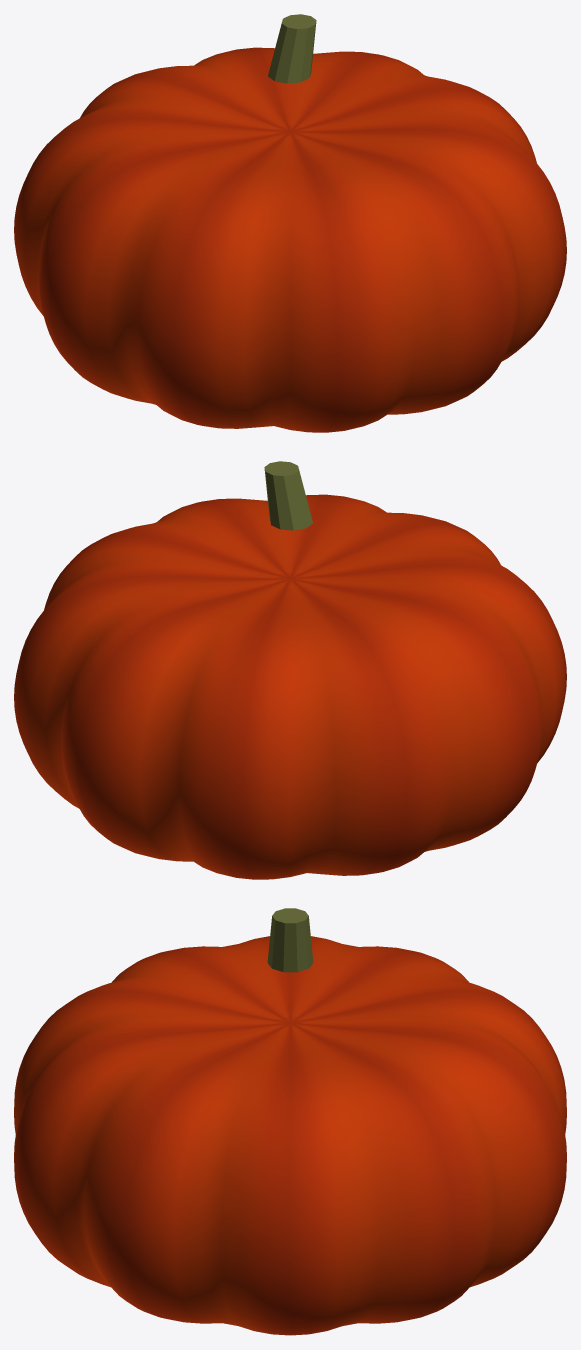
Rendered from citrouille.glb.
The picture shows the model from 3 angles, top to bottom: view 1: azimuth 30°, elevation 25°; view 2: azimuth 150°, elevation 25°; view 3: azimuth 270°, elevation 25°; orthographic projection. The views are drawn at different scales.
Visible parts, largest first — view 1: entier_peau, moitie_B_peau, moitie_A_peau, entier_extra0; view 2: entier_peau, moitie_A_peau, moitie_B_peau, entier_extra0; view 3: entier_peau, moitie_B_peau, moitie_A_peau, entier_extra0.
Boxes of the visible parts, <box> form: entier_peau: <box>14,47,566,432</box>; moitie_B_peau: <box>50,89,566,432</box>; moitie_A_peau: <box>14,83,485,365</box>; entier_extra0: <box>268,14,316,83</box>; entier_peau: <box>14,494,566,879</box>; moitie_A_peau: <box>14,536,530,879</box>; moitie_B_peau: <box>97,494,566,807</box>; entier_extra0: <box>264,461,312,530</box>; entier_peau: <box>14,936,566,1335</box>; moitie_B_peau: <box>14,937,290,1334</box>; moitie_A_peau: <box>290,937,566,1334</box>; entier_extra0: <box>267,908,313,972</box>.
Size of the model in its own units: 2 by 1.32 by 1.93.
